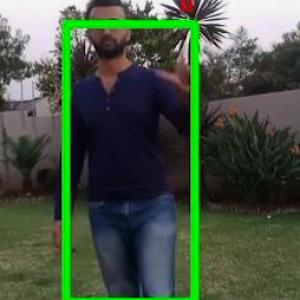land_hand: (156, 43, 198, 92)
